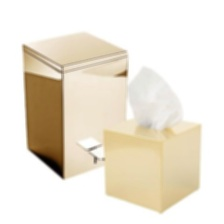tissue: (121, 59, 191, 135)
